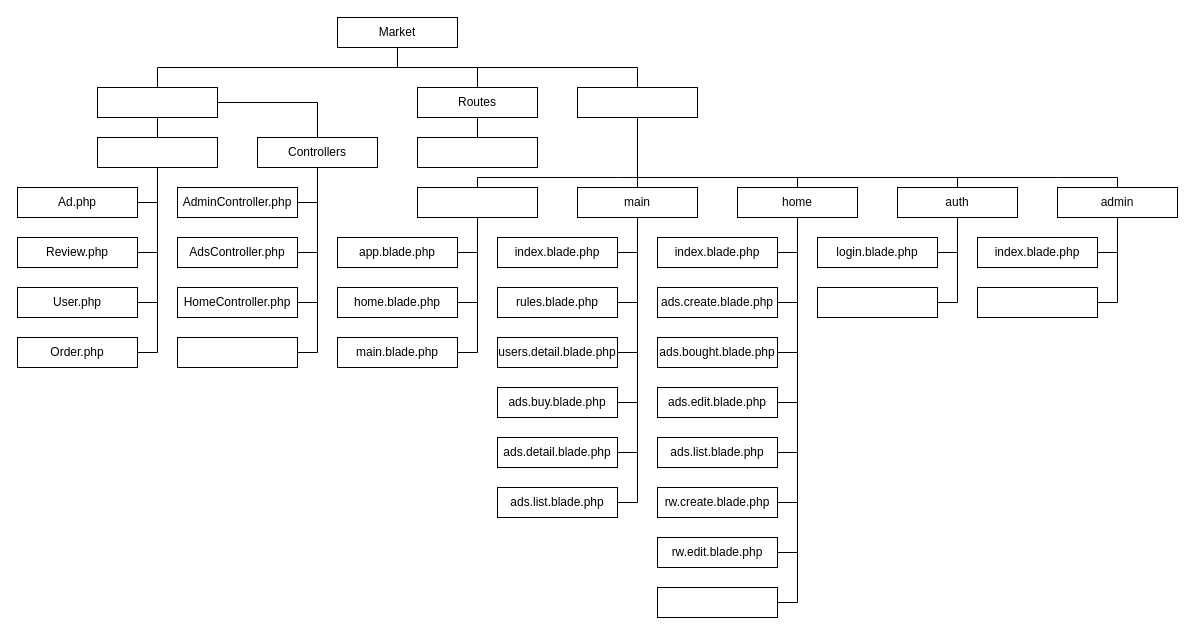
This 1195x635 diagram has some shape labels left out. The box of each missing label's shape, as (x1, y1, x2, y2) in pixels:
App: (96, 86, 218, 118)
editor.blade.php: (976, 286, 1098, 318)
layouts: (416, 186, 538, 218)
MainController.php: (176, 336, 298, 368)
Models: (96, 136, 218, 168)
register.blade.php: (816, 286, 938, 318)
rw.editor.blade.php: (656, 586, 778, 618)
Views: (576, 86, 698, 118)
web.php: (416, 136, 538, 168)
